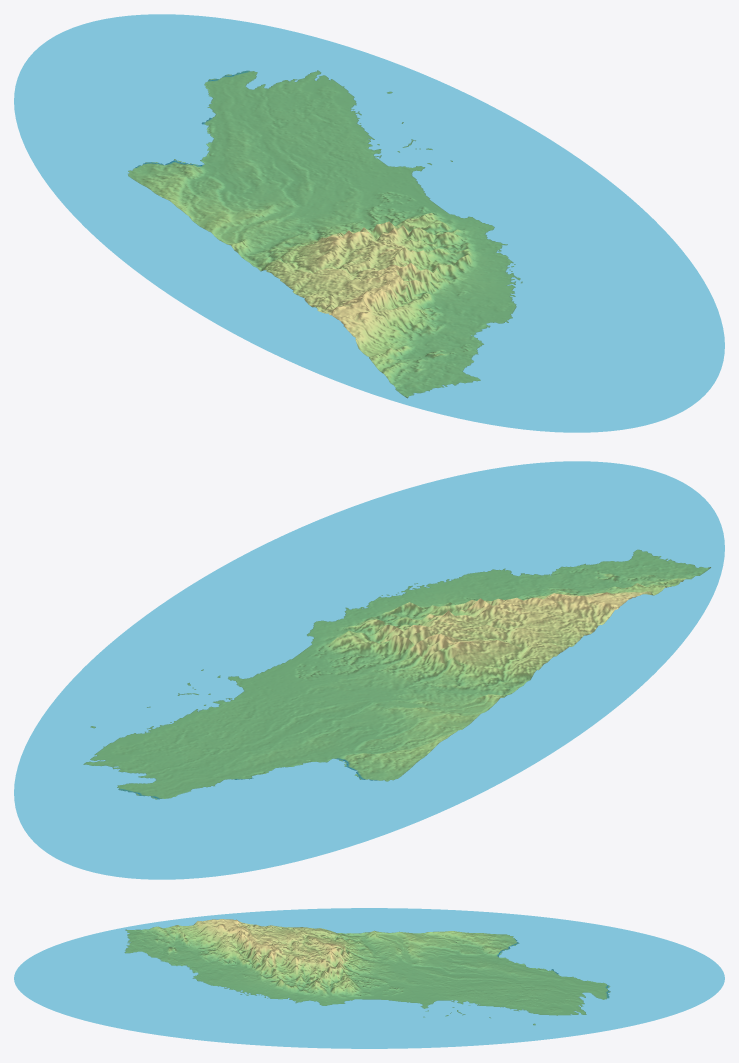
Rendered from BLZ-terrain.glb.
3 views of the same model, one above another, from view 1: azimuth 30°, elevation 25°; view 2: azimuth 150°, elevation 25°; view 3: azimuth 270°, elevation 25° (orthographic). The views are drawn at different scales.
Visible parts, largest first — view 1: Relevo com hidrografia; view 2: Relevo com hidrografia; view 3: Relevo com hidrografia.
Part boxes in pixels (x1=…): Relevo com hidrografia: x1=14, y1=14, x2=724, y2=432; Relevo com hidrografia: x1=14, y1=461, x2=724, y2=879; Relevo com hidrografia: x1=14, y1=908, x2=724, y2=1048.
Bounding box in the file's own units: 1.1 × 0.0632 × 2.35.
Materials: 2 (1 with a texture image).
